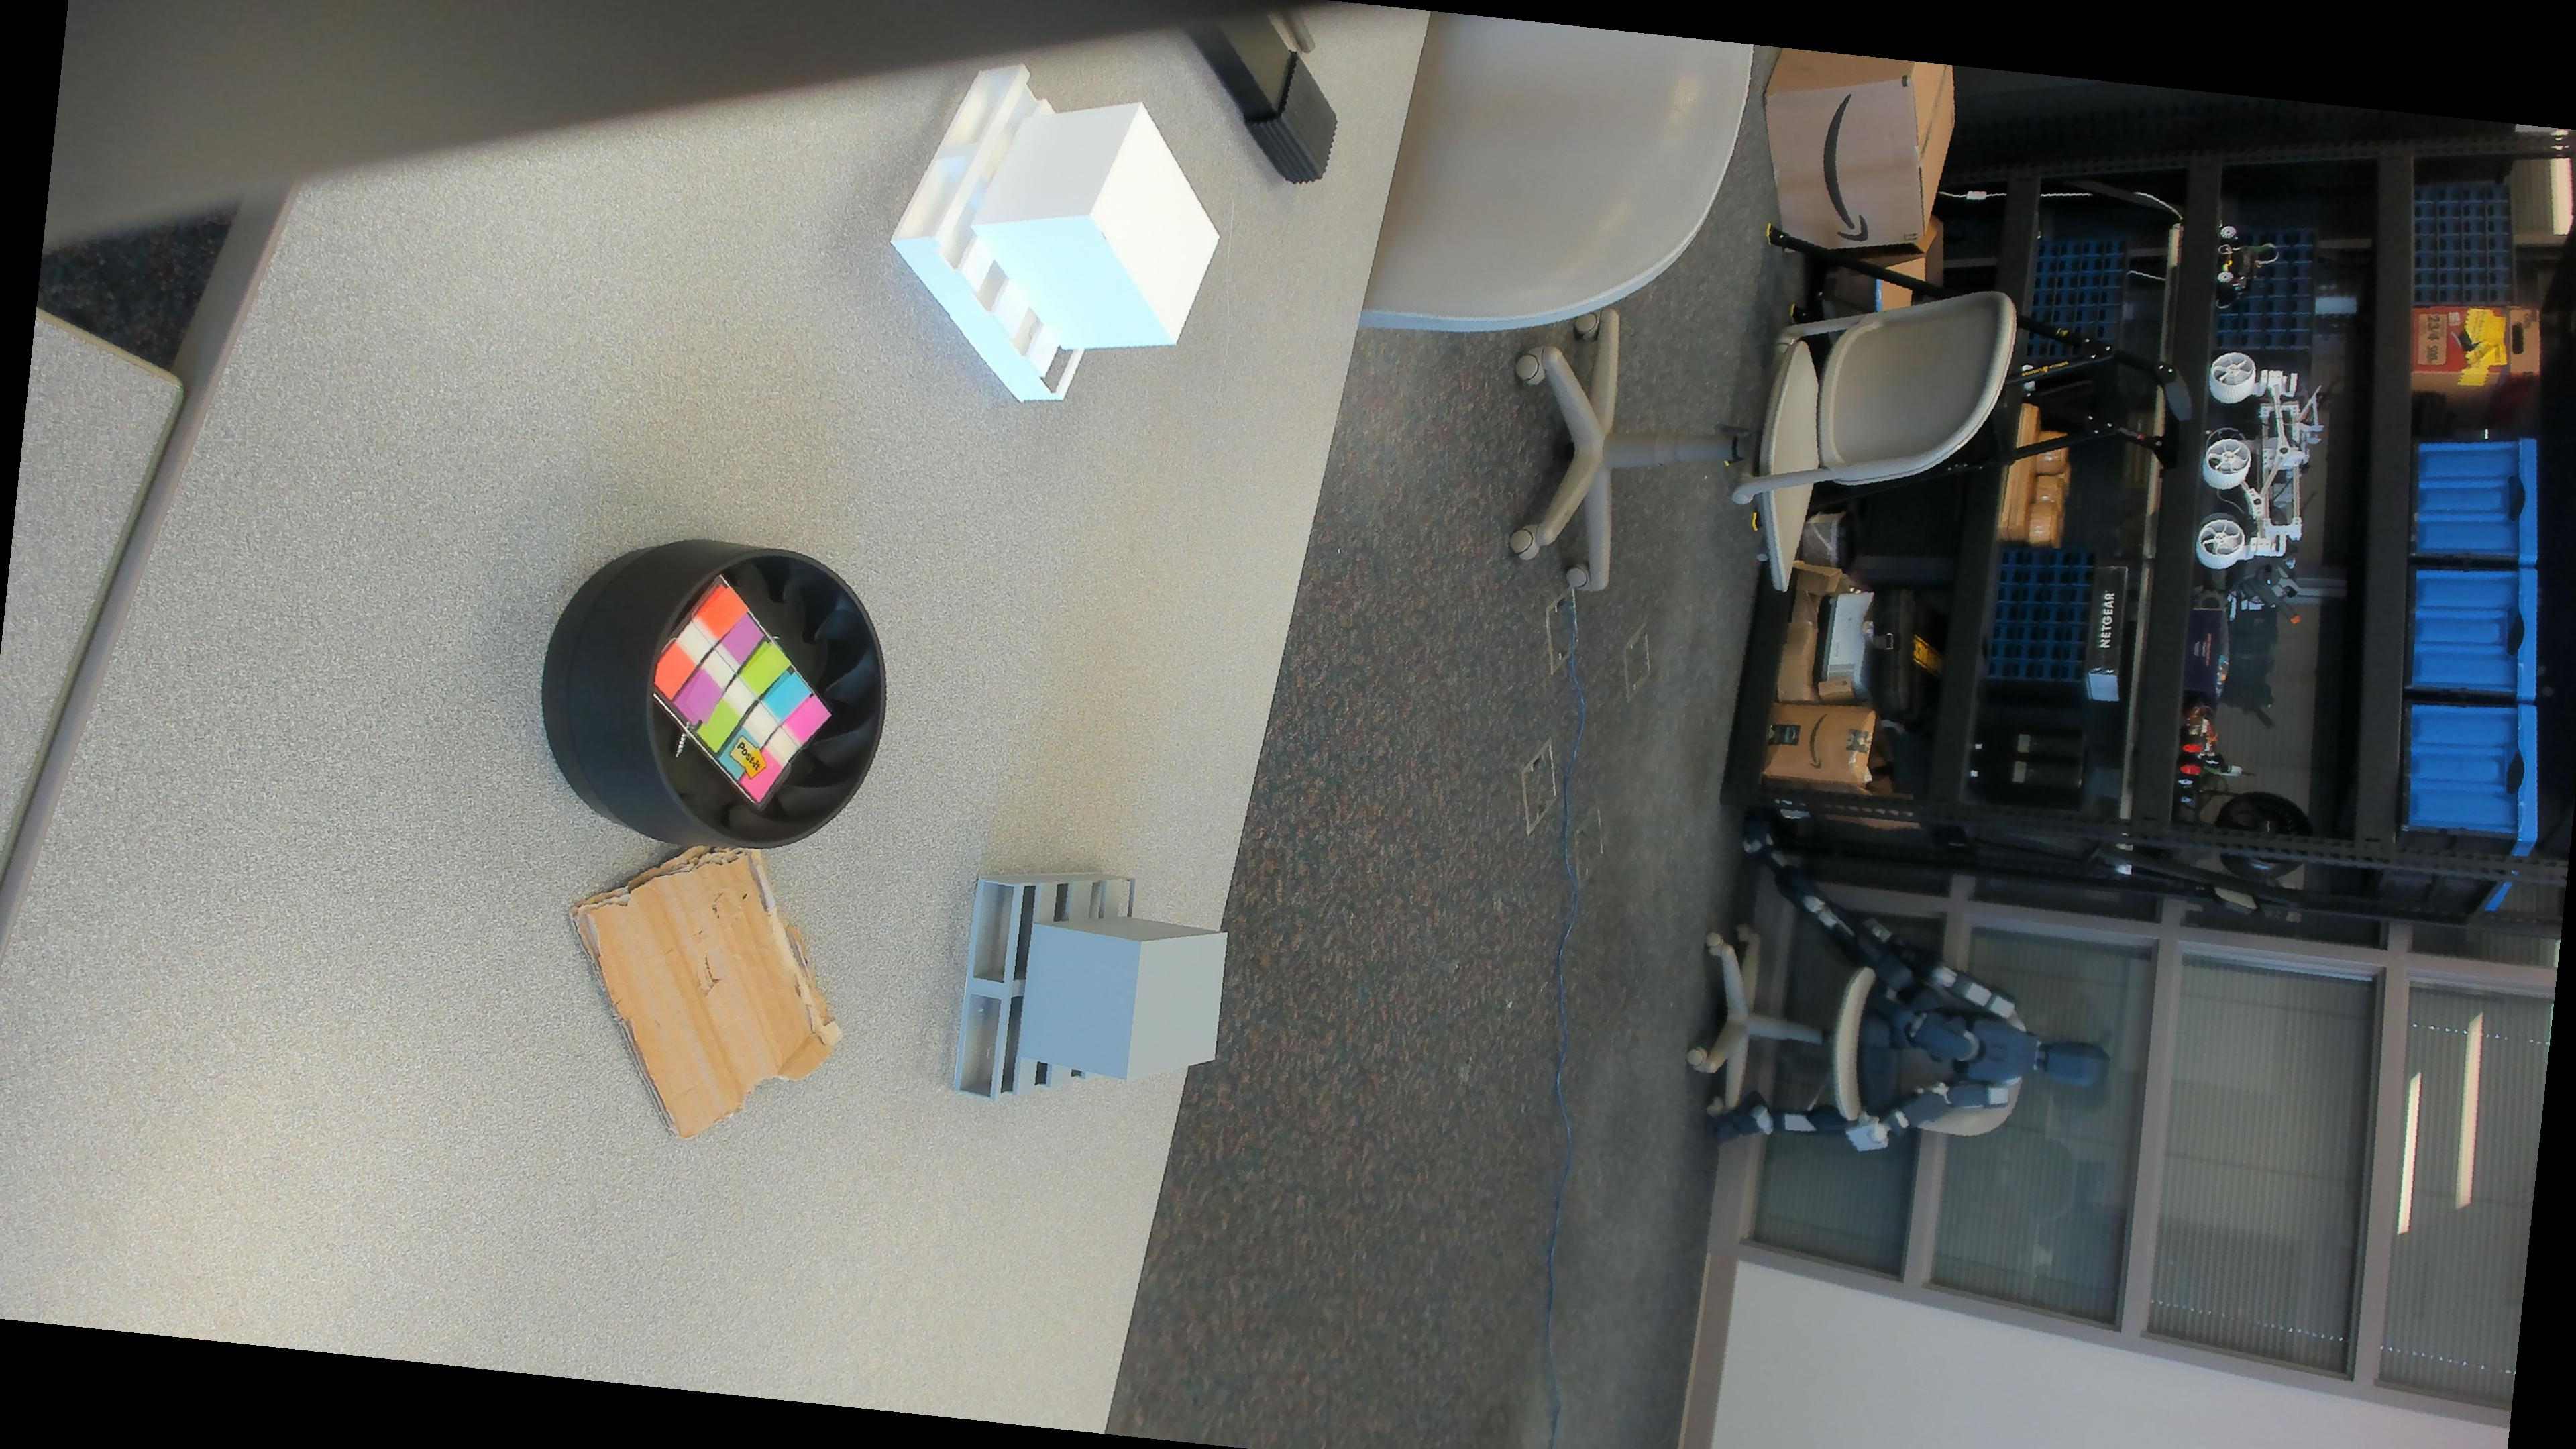grey pallet: (945, 858, 1228, 1129)
white pallet: (888, 53, 1226, 426)
